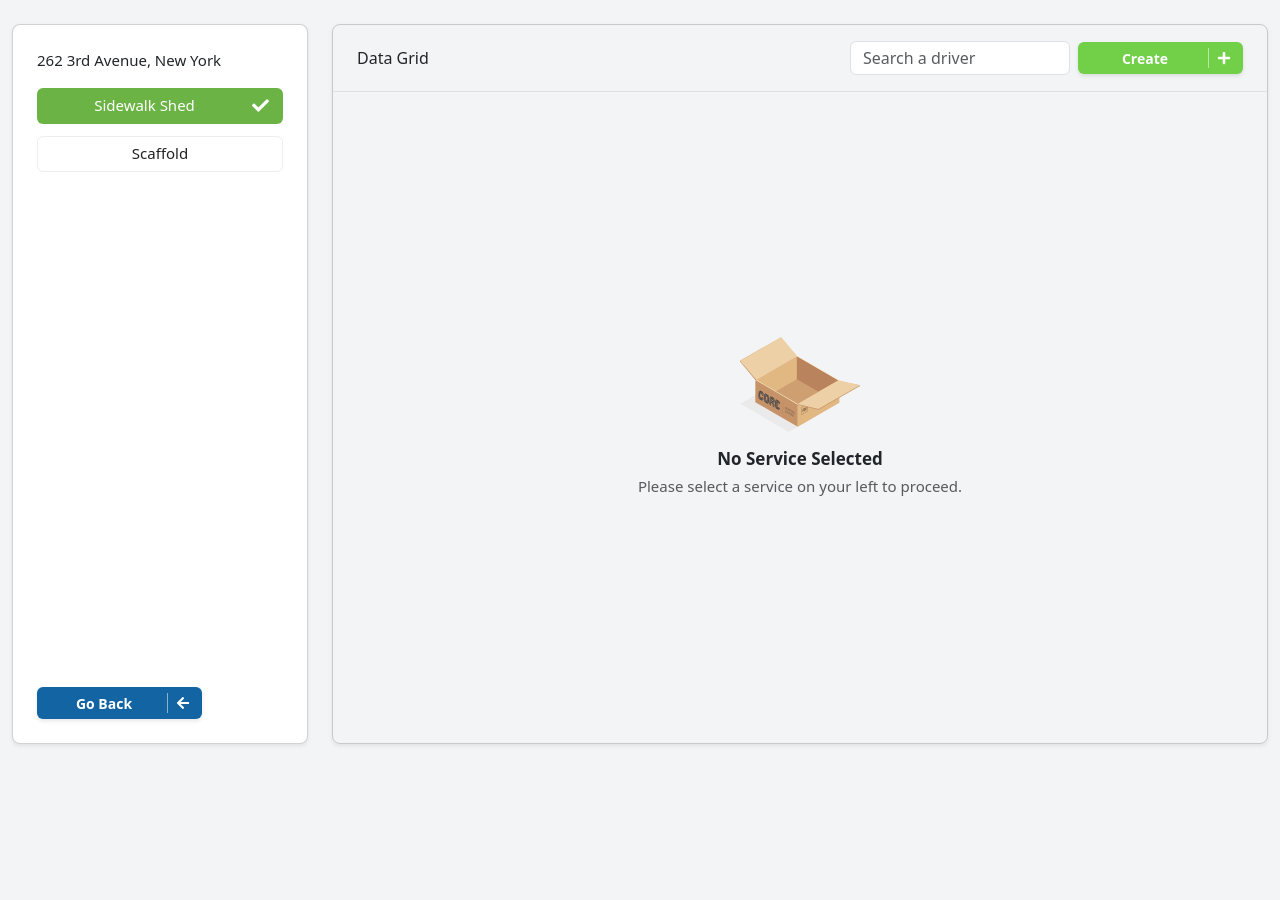
ServiceSelectPage › shows table when 'Scaffold' is selected
The width and height of the screenshot is (1280, 900).
Click the button "Scaffold".
click(160, 154)  # box [37,136,283,172]
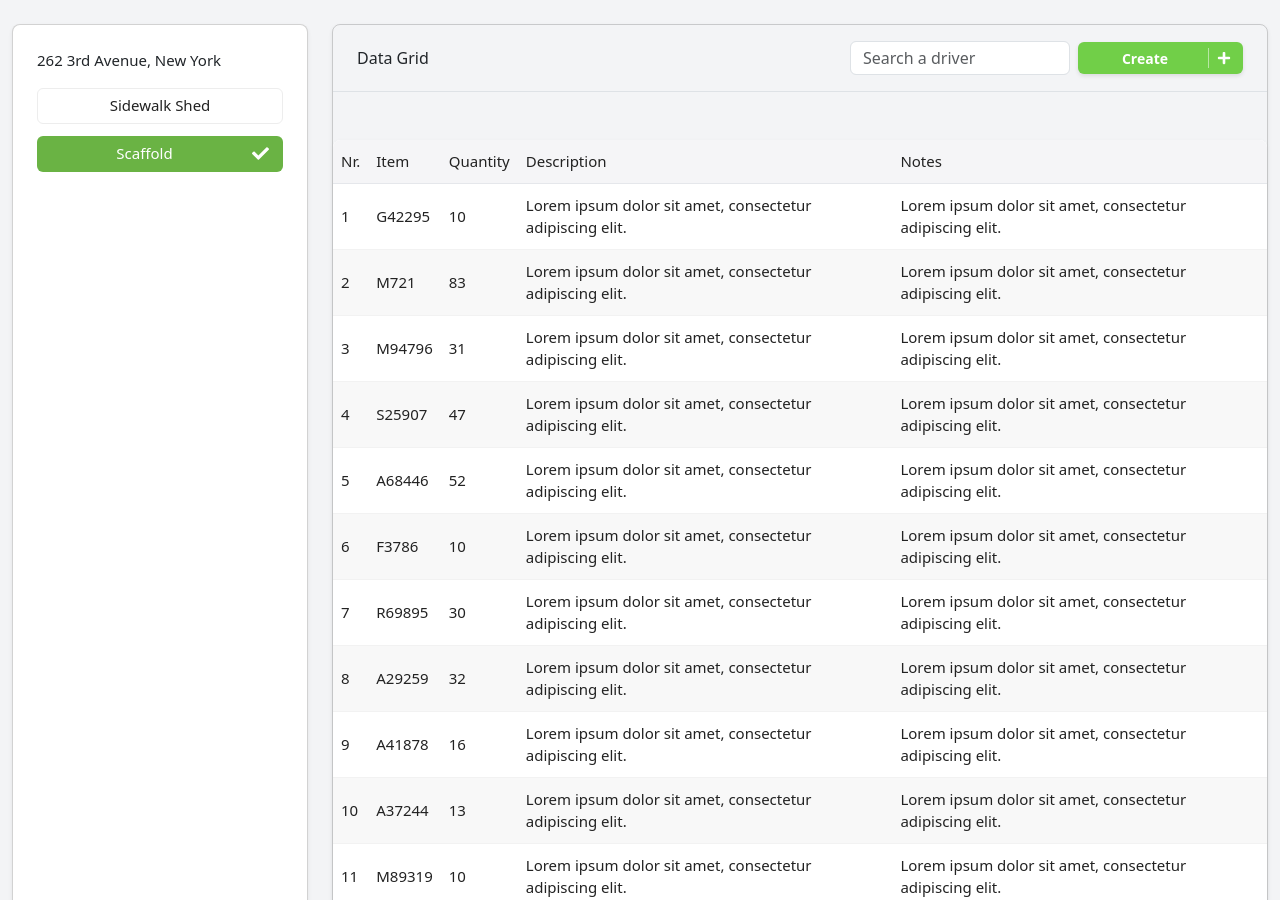
Result: the column heading "Nr." is shown at [333,140,368,184]
Result: the column heading "Item" is shown at [368,140,441,184]
Result: the column heading "Quantity" is shown at [441,140,518,184]
